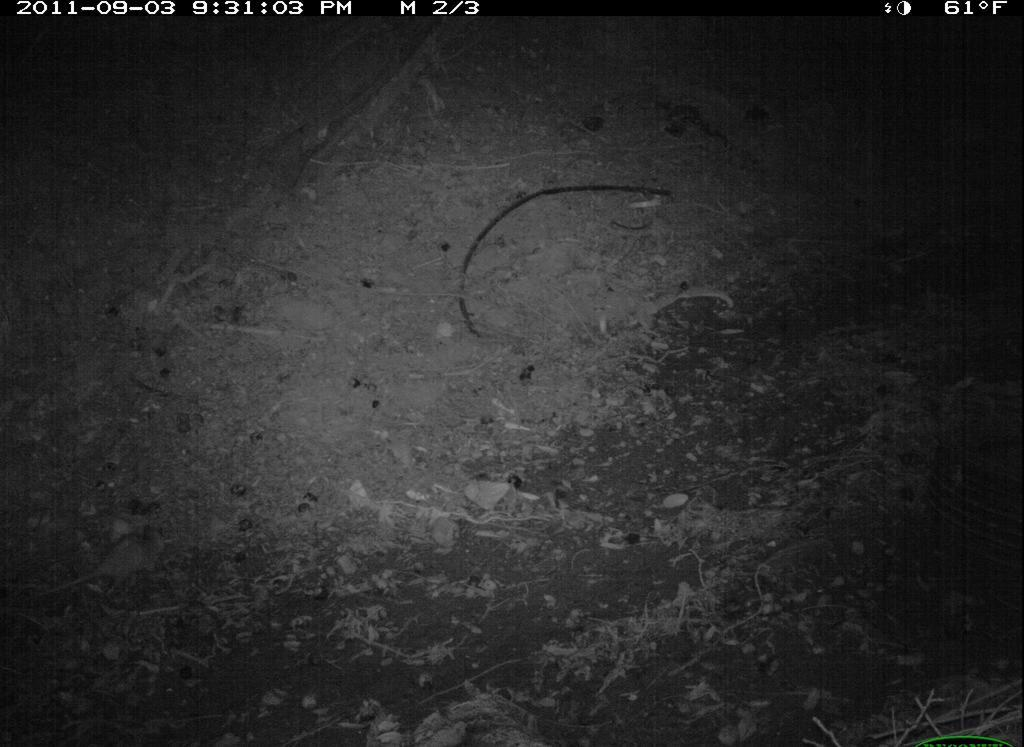opossum: (17, 510, 175, 606)
